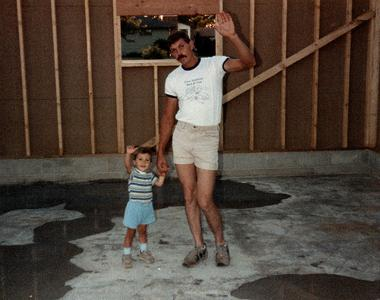person: (156, 11, 255, 266)
